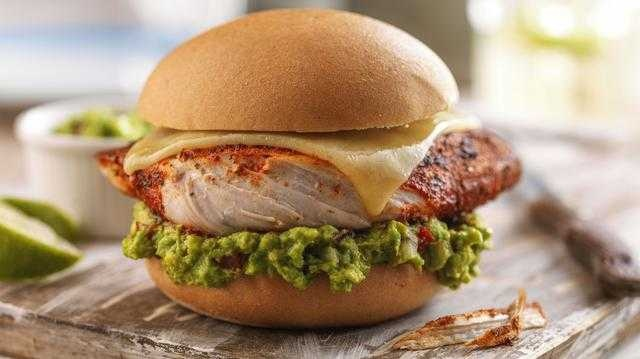hamburger: (124, 20, 508, 319)
